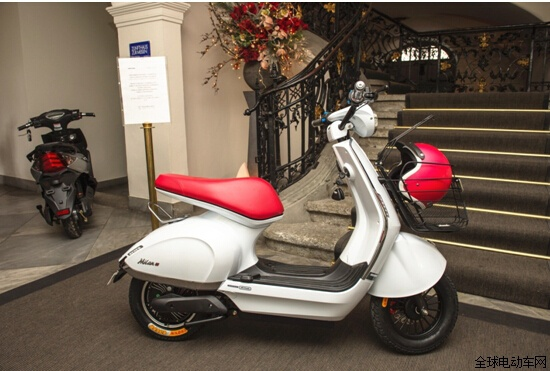non-vehicle: (110, 92, 461, 348), (16, 107, 96, 240)
